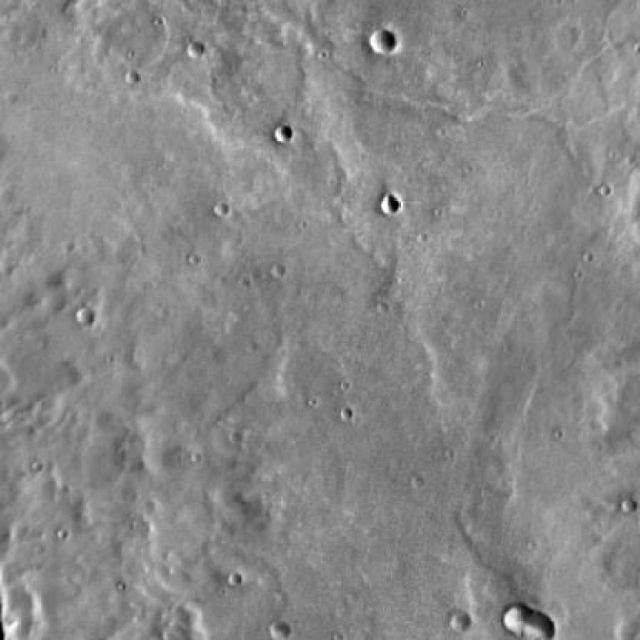crater: (520, 611, 551, 640), (496, 606, 526, 634), (372, 26, 398, 52), (77, 305, 95, 324), (382, 197, 400, 215), (448, 612, 467, 628), (270, 624, 287, 640), (272, 127, 288, 144), (190, 43, 205, 59)
